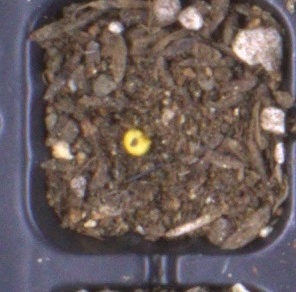chilli seed: (122, 128, 153, 157)
